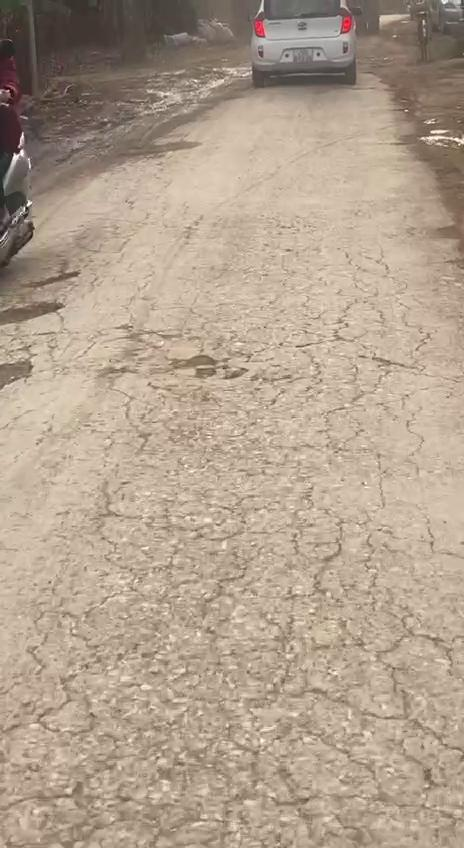pothole: (0, 288, 68, 326), (0, 353, 37, 395)
